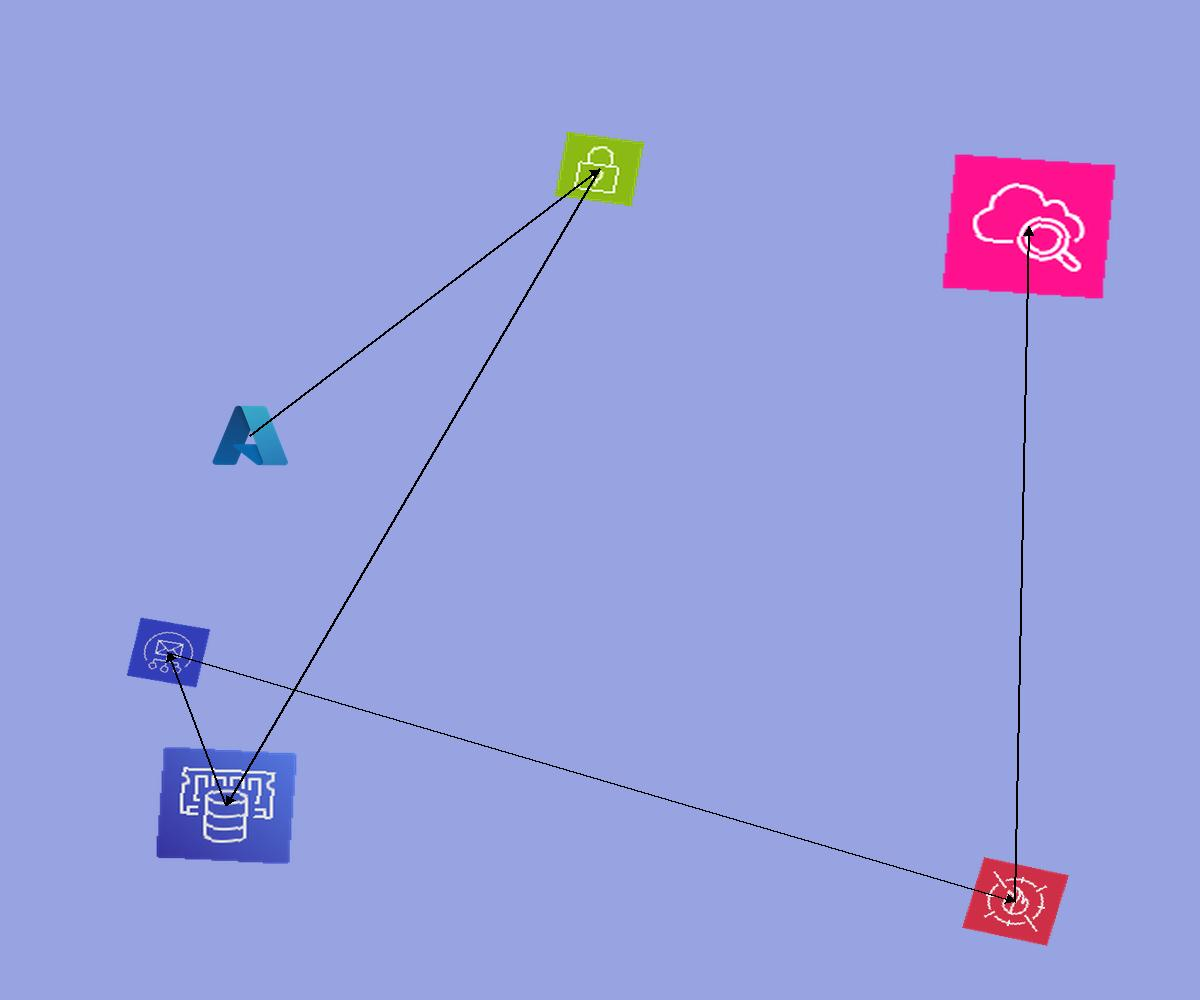AWS-CloudWatch: (941, 153, 1117, 300)
AWS-ElastiCache: (155, 746, 298, 865)
AWS-Public-subnet: (555, 132, 644, 206)
AWS-Simple-Email-Service: (126, 617, 211, 688)
AWS-WAF: (962, 857, 1069, 946)
Azure_services: (209, 401, 292, 470)
